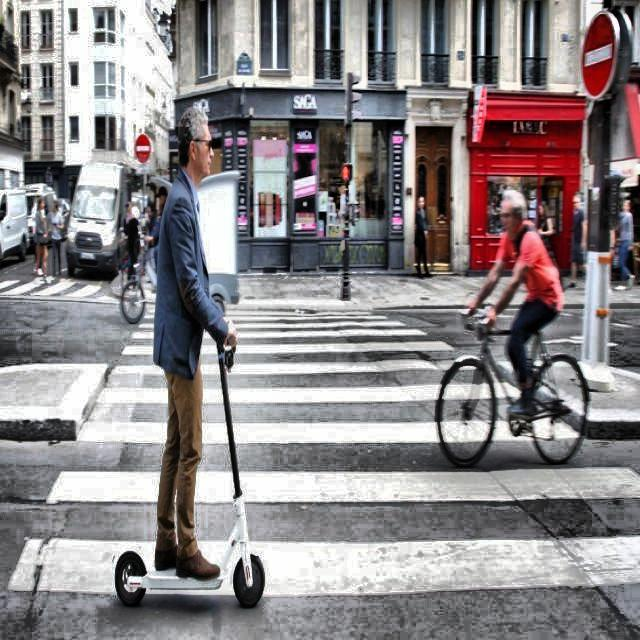bare_head: (167, 101, 233, 183)
human: (130, 80, 231, 581)
kickboard: (94, 540, 271, 621)
